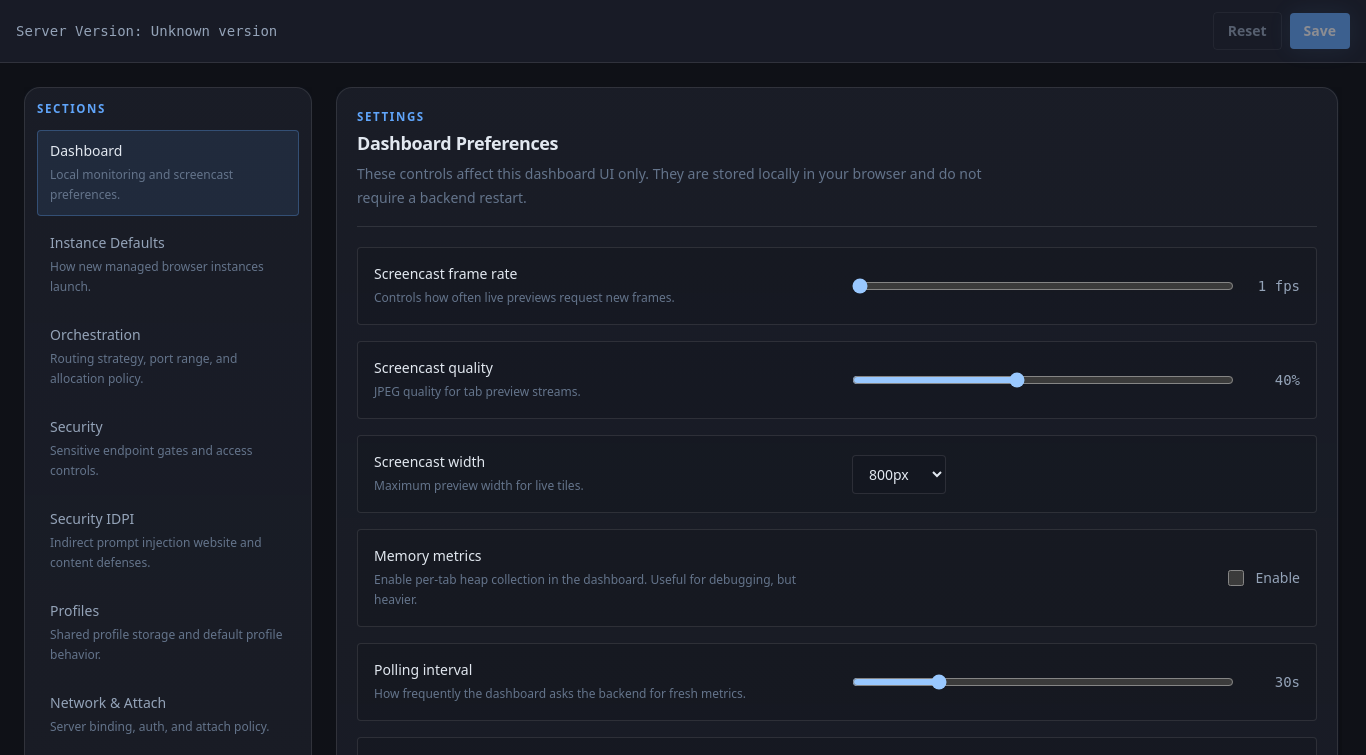
it: SettingsPage › shows token status without exposing token management controls
Click the button "Network & Attach Server binding, auth, and attach policy.". click: coordinates (168, 715)
box: x1=37 y1=682 x2=299 y2=748
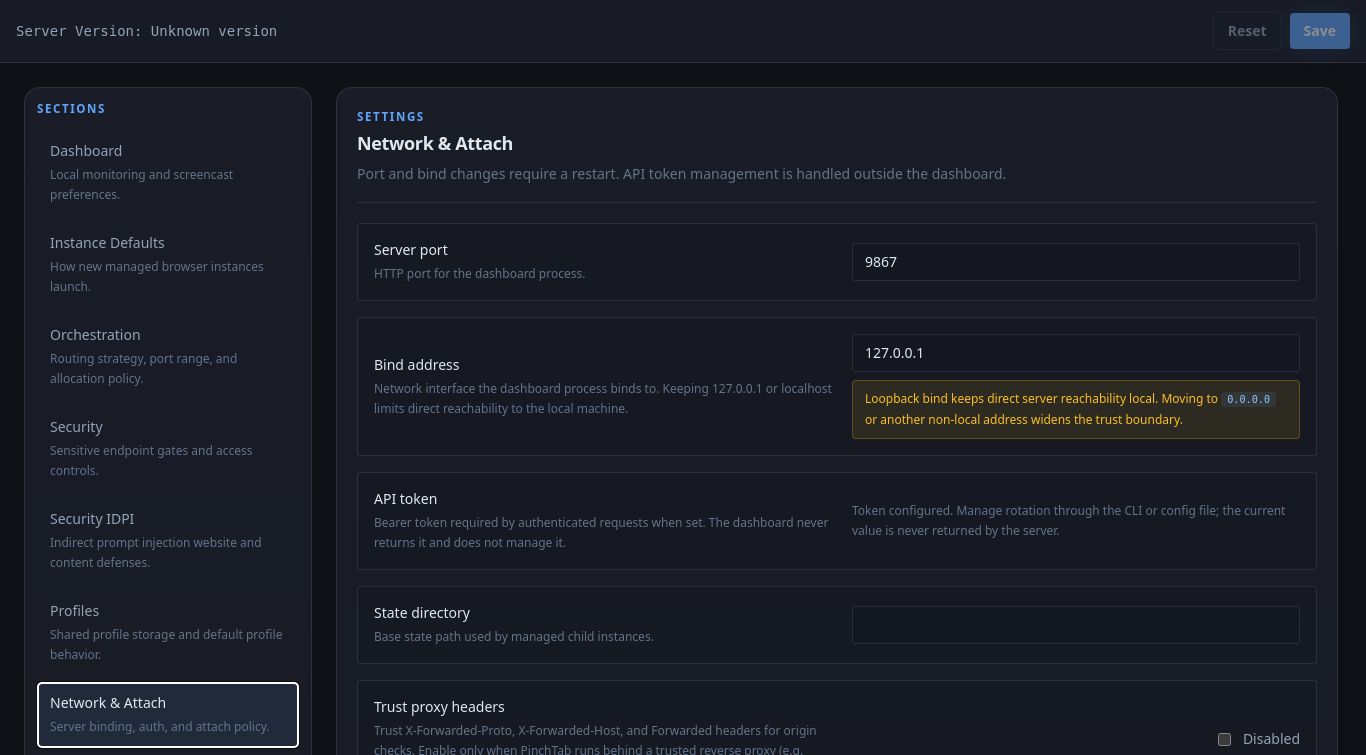
Now the text "Token configured. Manage rotation through the CLI or config file; the current value is never returned by the server." is shown, box x1=852 y1=502 x2=1285 y2=539
